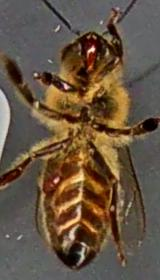varroa_mite: (30, 163, 68, 200)
